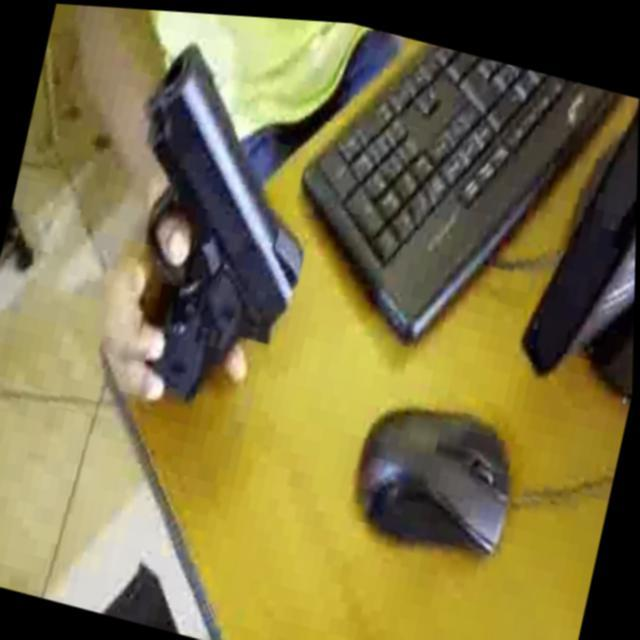weapon: (86, 26, 344, 426)
